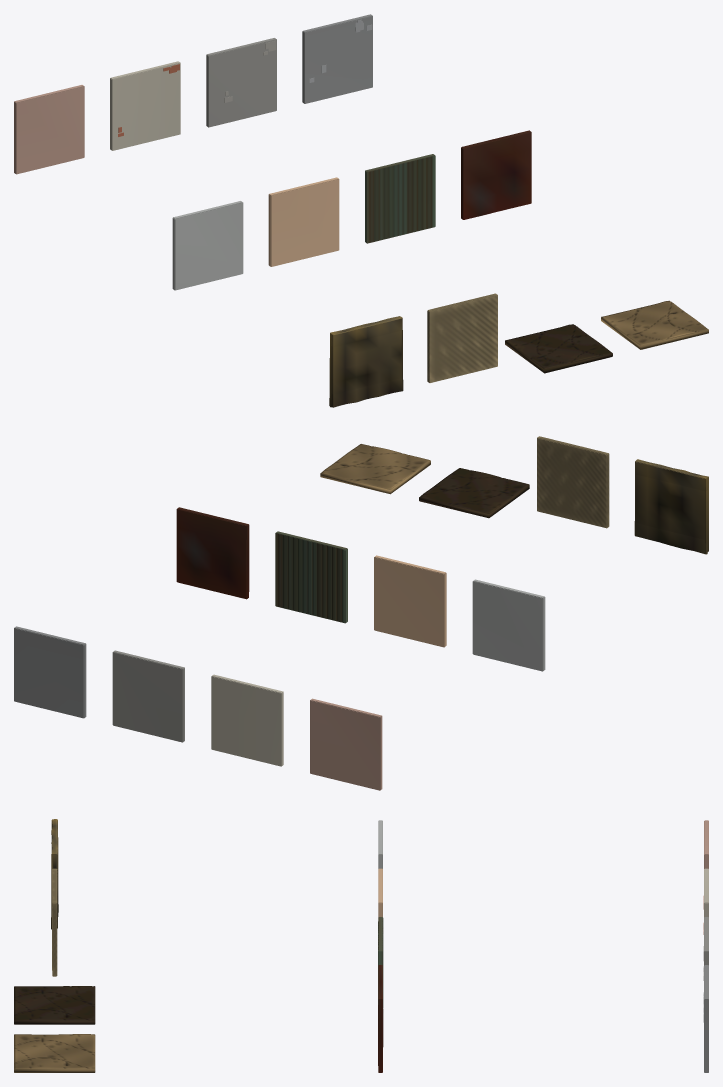
Rendered from material_board_v2.glb.
3 renders of one model, top to bottom at view 1: azimuth 30°, elevation 25°; view 2: azimuth 150°, elevation 25°; view 3: azimuth 270°, elevation 25°, orthographic. The views are drawn at different scales.
Visible parts, largest first — view 1: hb_main, hb_props, hb_thatch, hb_tin, hb_terracotta, hb_wood, hb_brick, hb_jute, hb_metal; view 2: hb_main, hb_props, hb_thatch, hb_tin, hb_metal, hb_terracotta, hb_jute, hb_brick, hb_wood; view 3: hb_props, hb_main, hb_jute, hb_thatch, hb_metal.
Boxes of the visible parts, x1=… form: hb_main: x1=110, y1=14, x2=372, y2=150; hb_props: x1=505, y1=300, x2=708, y2=373; hb_thatch: x1=329, y1=316, x2=403, y2=407; hb_tin: x1=172, y1=201, x2=243, y2=290; hb_terracotta: x1=268, y1=177, x2=339, y2=266; hb_wood: x1=365, y1=154, x2=435, y2=243; hb_brick: x1=14, y1=85, x2=84, y2=174; hb_jute: x1=427, y1=293, x2=497, y2=382; hb_metal: x1=461, y1=130, x2=531, y2=219; hb_main: x1=14, y1=626, x2=283, y2=766; hb_props: x1=320, y1=444, x2=529, y2=518; hb_thatch: x1=634, y1=459, x2=708, y2=554; hb_tin: x1=472, y1=579, x2=545, y2=671; hb_metal: x1=176, y1=507, x2=249, y2=599; hb_terracotta: x1=374, y1=555, x2=446, y2=647; hb_jute: x1=537, y1=436, x2=609, y2=528; hb_brick: x1=310, y1=698, x2=382, y2=790; hb_wood: x1=275, y1=531, x2=347, y2=623; hb_props: x1=14, y1=986, x2=95, y2=1072; hb_main: x1=703, y1=868, x2=708, y2=1072; hb_jute: x1=52, y1=868, x2=57, y2=976; hb_thatch: x1=51, y1=819, x2=58, y2=929; hb_metal: x1=378, y1=965, x2=383, y2=1072.
Size of the model in its own units: 10.44 by 2.08 by 17.06.
